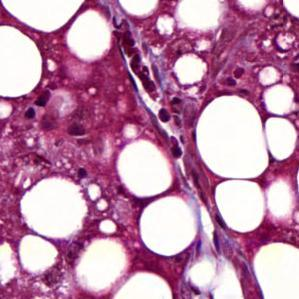steatosis: (198, 93, 270, 179), (20, 177, 90, 233), (139, 197, 202, 251), (116, 142, 175, 197), (210, 177, 262, 229)
